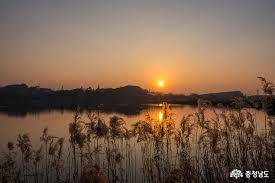lake: (5, 106, 265, 173)
sky: (2, 2, 272, 91)
